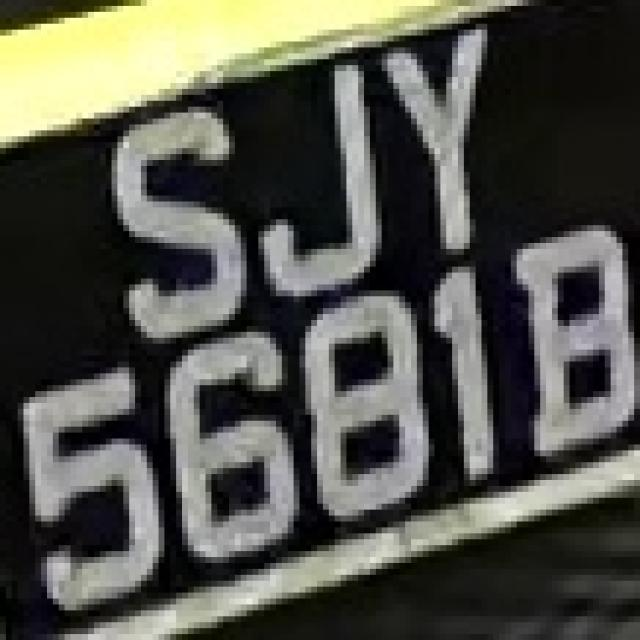1: (422, 284, 516, 486)
5: (6, 362, 158, 622)
6: (153, 332, 311, 569)
8: (282, 291, 434, 534)
B: (493, 225, 634, 480)
J: (235, 36, 393, 296)
S: (82, 101, 258, 338)
Y: (364, 18, 511, 249)
